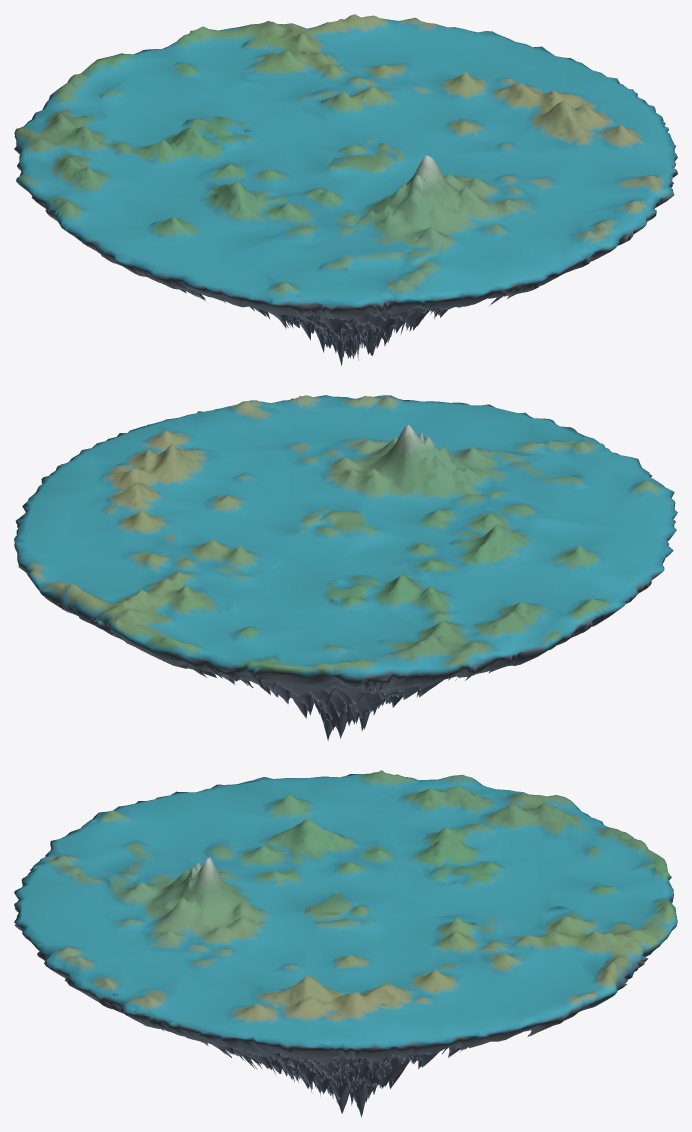
The model's file is celestial_world_runtime_tapered.glb.
The picture shows the model from 3 angles, top to bottom: view 1: azimuth 30°, elevation 25°; view 2: azimuth 150°, elevation 25°; view 3: azimuth 270°, elevation 25°; orthographic projection.
Parts seen in each view (by area): view 1: world; view 2: world; view 3: world.
Boxes of the visible parts, x1,y1,x2,y2 form: world: (14, 14, 677, 366); world: (14, 395, 677, 740); world: (14, 770, 677, 1117).
Size of the model in its own units: 14.24 by 6.25 by 14.56.
